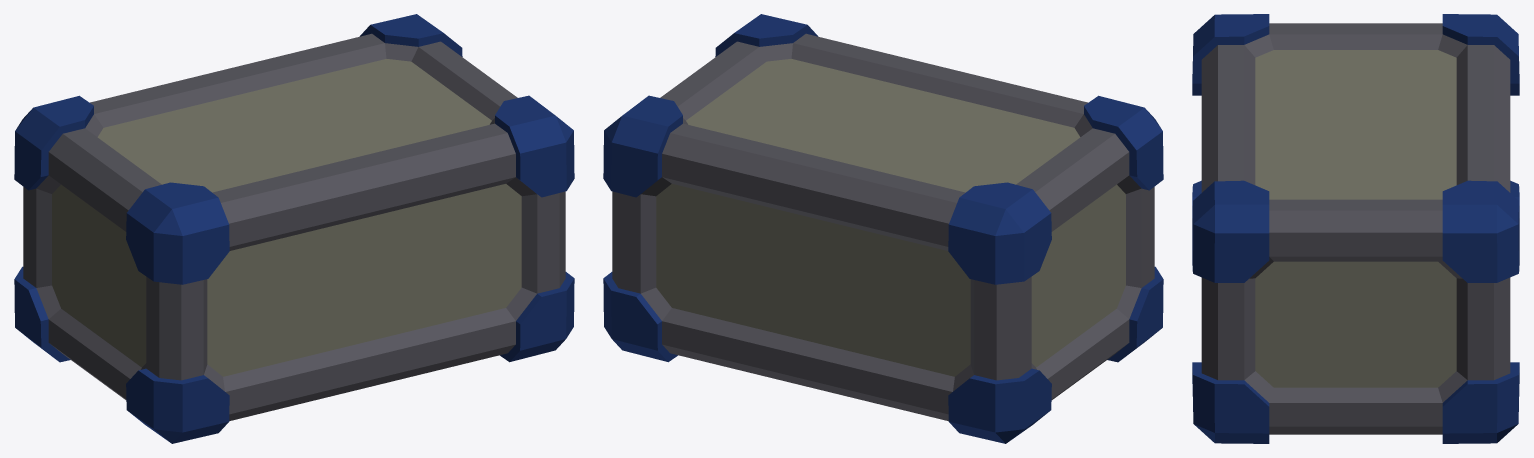
The model's file is LPSciFi_CrateC.fbx.
The picture shows the model from 3 angles, left to right: view 1: azimuth 30°, elevation 25°; view 2: azimuth 150°, elevation 25°; view 3: azimuth 270°, elevation 25°; orthographic projection.
Parts seen in each view (by area): view 1: CrateC; view 2: CrateC; view 3: CrateC.
Boxes of the visible parts, x1=… form: CrateC: x1=14, y1=14, x2=574, y2=443; CrateC: x1=603, y1=14, x2=1163, y2=443; CrateC: x1=1192, y1=14, x2=1519, y2=443.
Size of the model in its own units: 138 by 74.18 by 91.46.
